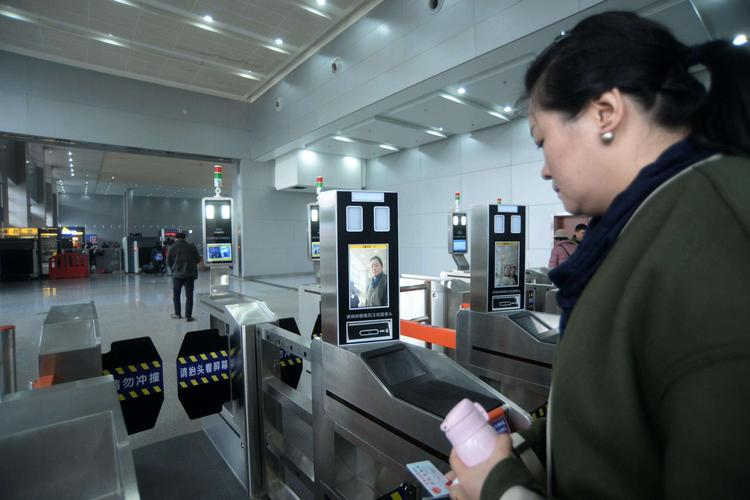no_mask: (524, 73, 631, 225)
